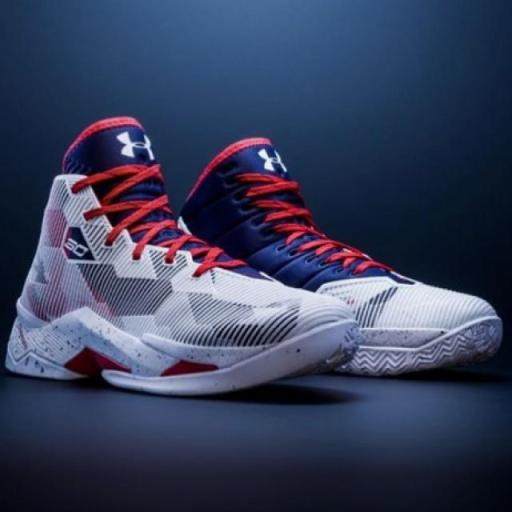Under Armour: (114, 127, 154, 161)
